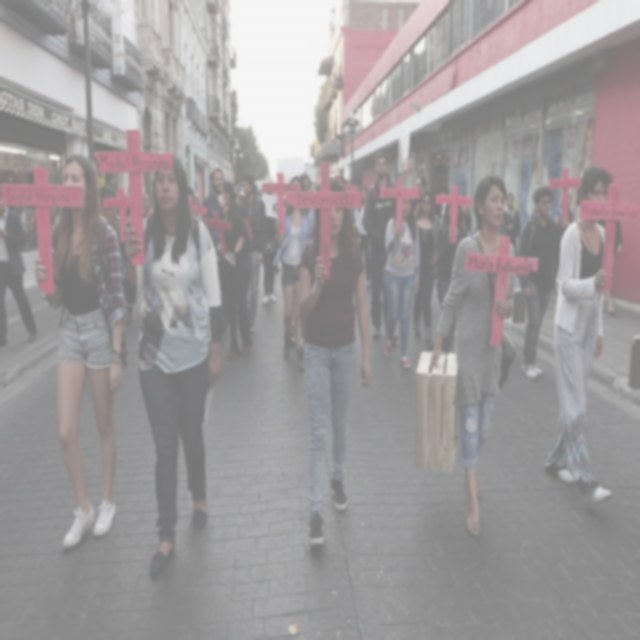pessoa: (117, 149, 227, 583), (32, 152, 122, 548), (426, 171, 518, 538), (295, 171, 376, 551), (542, 163, 618, 509), (514, 184, 562, 380), (96, 182, 152, 326), (274, 175, 314, 372), (361, 150, 398, 344), (384, 196, 422, 370), (218, 178, 254, 360), (0, 185, 38, 345), (284, 172, 318, 348), (434, 203, 468, 356), (412, 188, 442, 350), (241, 172, 267, 332), (325, 170, 364, 254), (214, 193, 254, 267), (596, 218, 622, 317), (552, 191, 576, 296), (260, 190, 280, 306), (201, 166, 226, 252), (354, 185, 372, 292), (502, 190, 522, 258), (454, 195, 472, 241), (472, 216, 508, 238), (180, 182, 203, 216), (411, 174, 427, 210), (252, 180, 264, 200)
